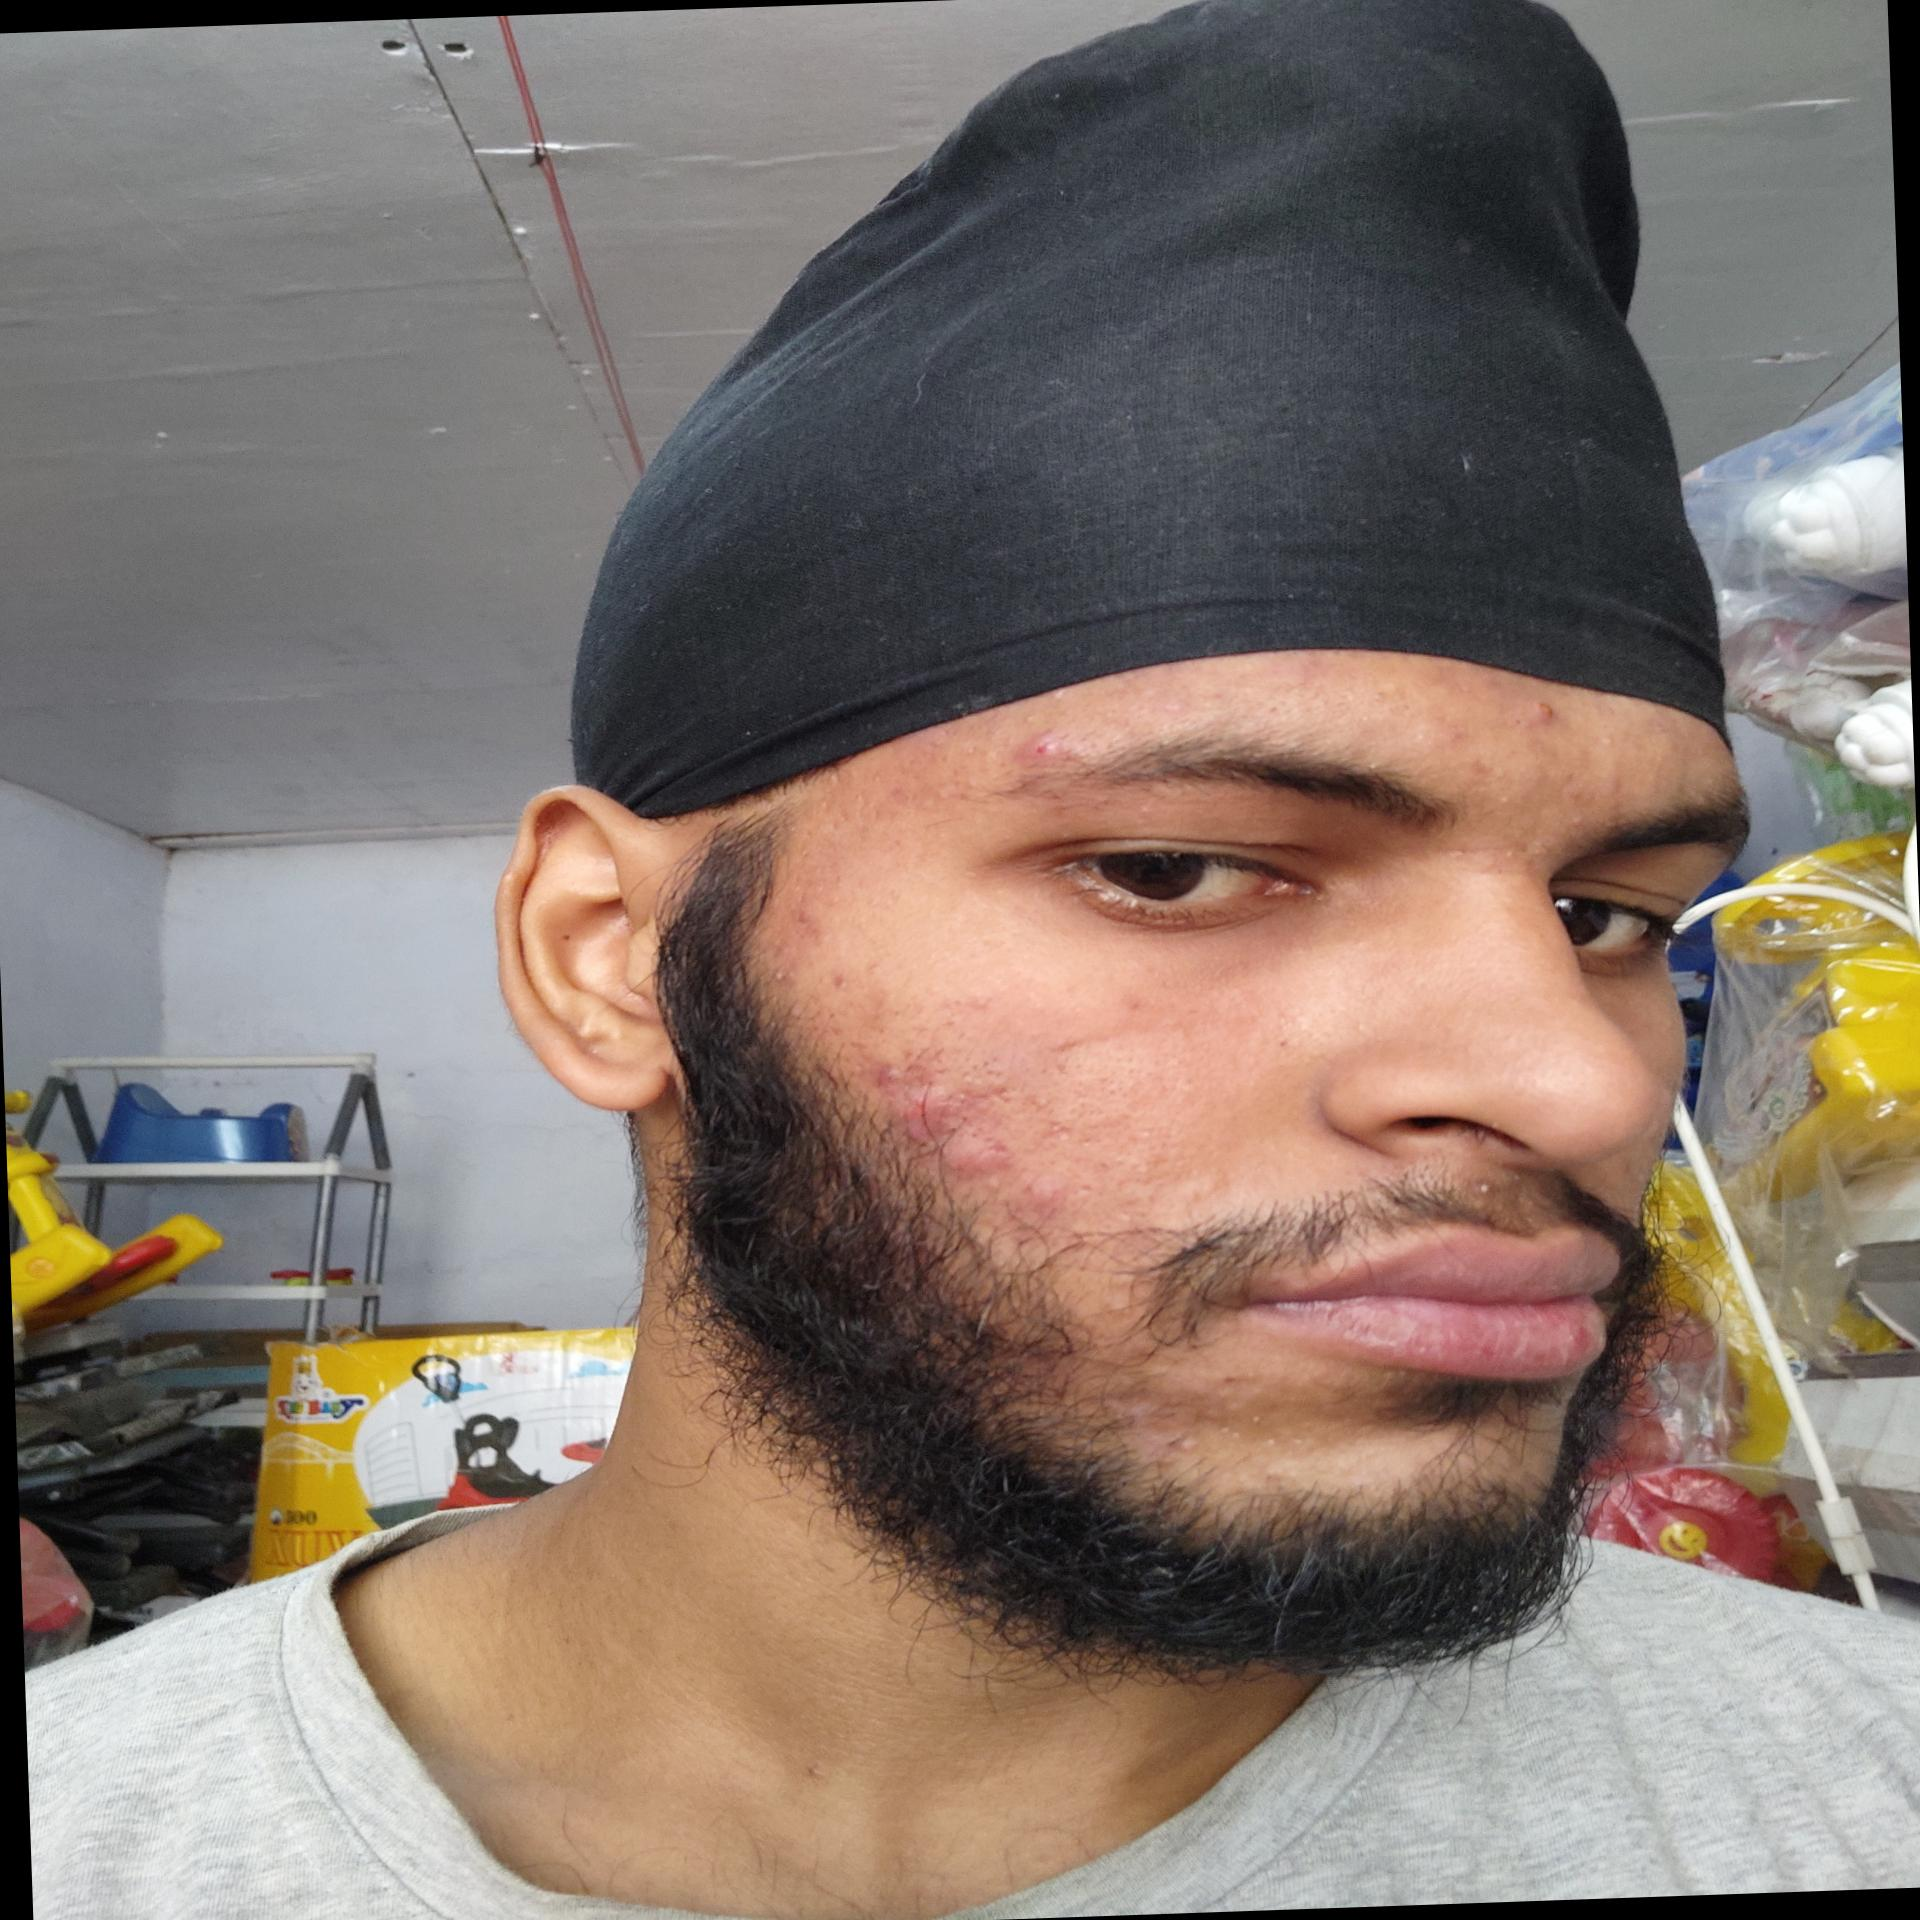Acne: (1213, 1405, 1312, 1456), (877, 1057, 948, 1122), (934, 1134, 1006, 1180), (1022, 1169, 1085, 1218), (1514, 695, 1572, 738), (1124, 1401, 1166, 1447), (1171, 1419, 1213, 1456), (1016, 730, 1062, 763), (1479, 842, 1535, 869), (1495, 782, 1530, 816), (1438, 840, 1472, 869), (1589, 728, 1625, 754), (1153, 700, 1192, 723), (1565, 812, 1593, 837), (1470, 1180, 1502, 1201), (768, 965, 795, 986)
Englarged Pores: (992, 1007, 1280, 1194), (821, 765, 939, 823), (937, 733, 1013, 779), (804, 967, 872, 1006)
